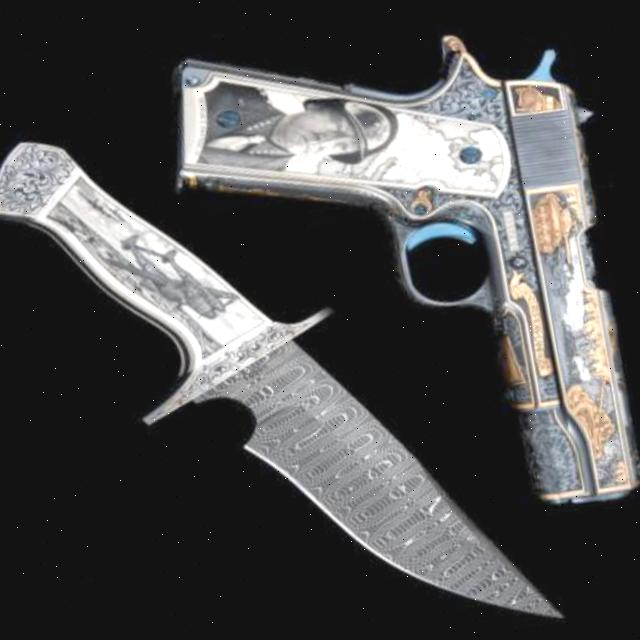pocket-knife: (0, 55, 570, 640)
